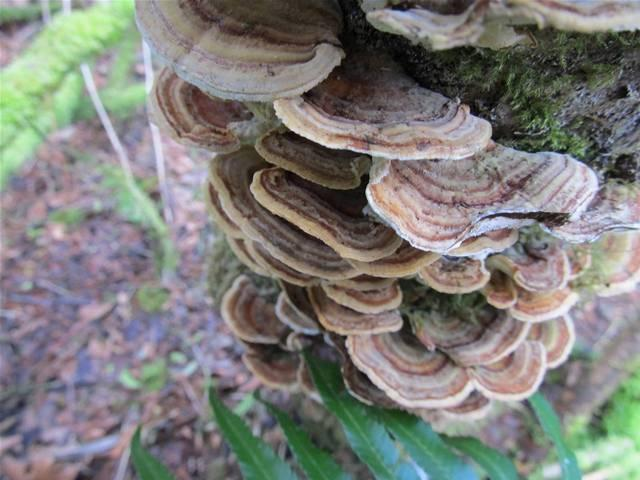poisonous_mushroom: (132, 0, 639, 434), (132, 0, 347, 103)
